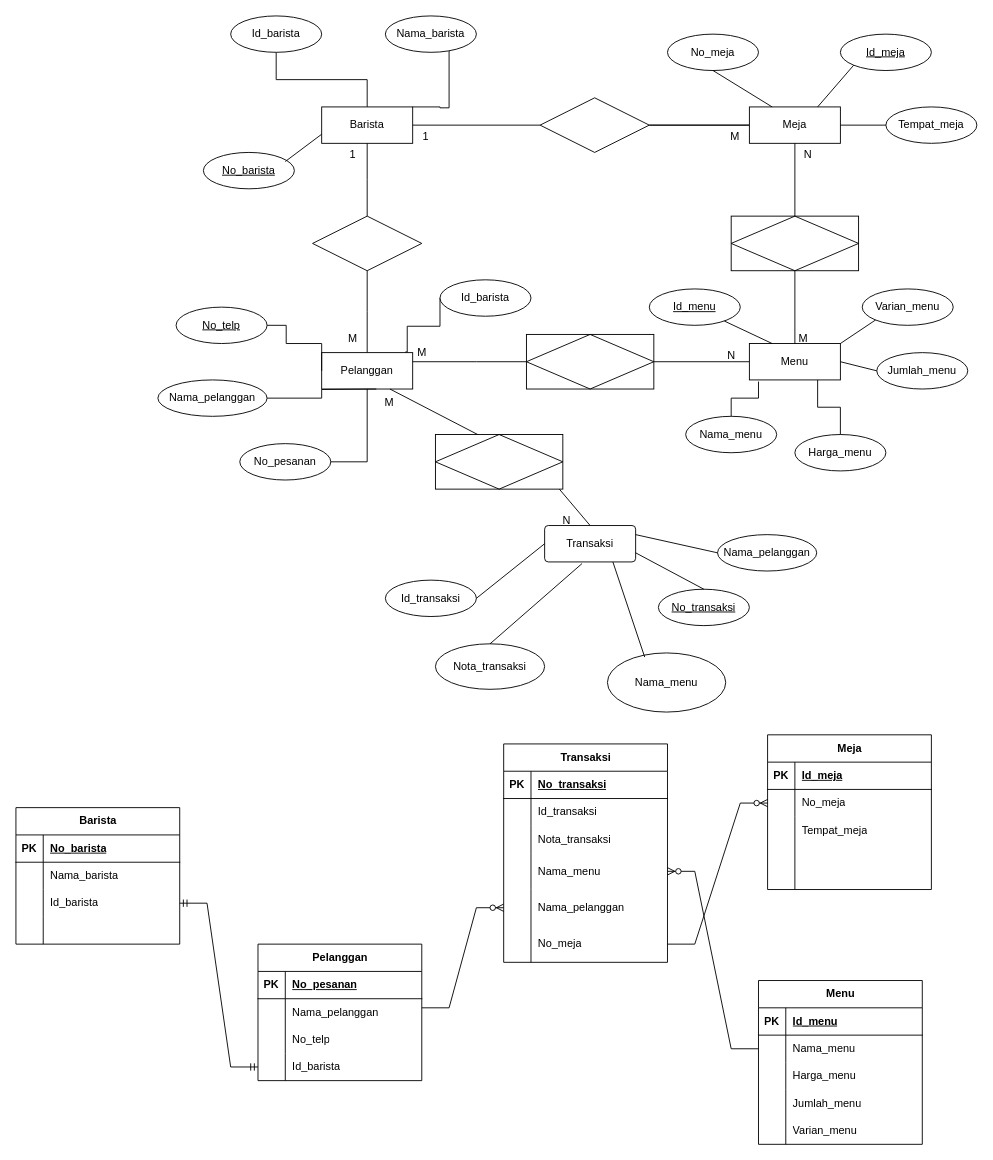
Image size: 993x1160. Some labels were removed from this diagram. Each missing label, with the box of its shape:
Antar: (730, 215, 859, 271)
Lakukan: (435, 434, 563, 489)
Melayani: (312, 215, 422, 271)
Mengantar: (539, 97, 649, 152)
Pesan: (526, 334, 654, 389)
